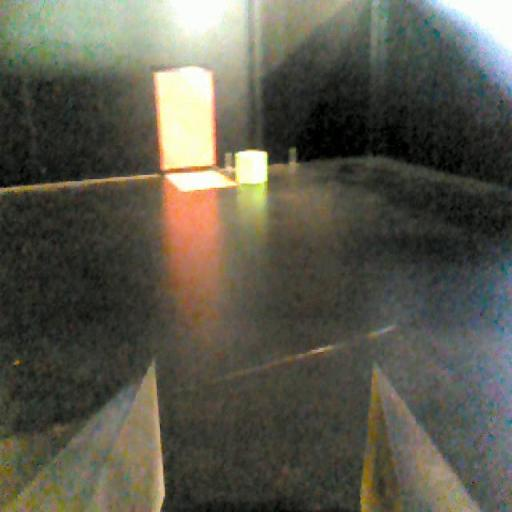cube: (233, 146, 269, 186)
